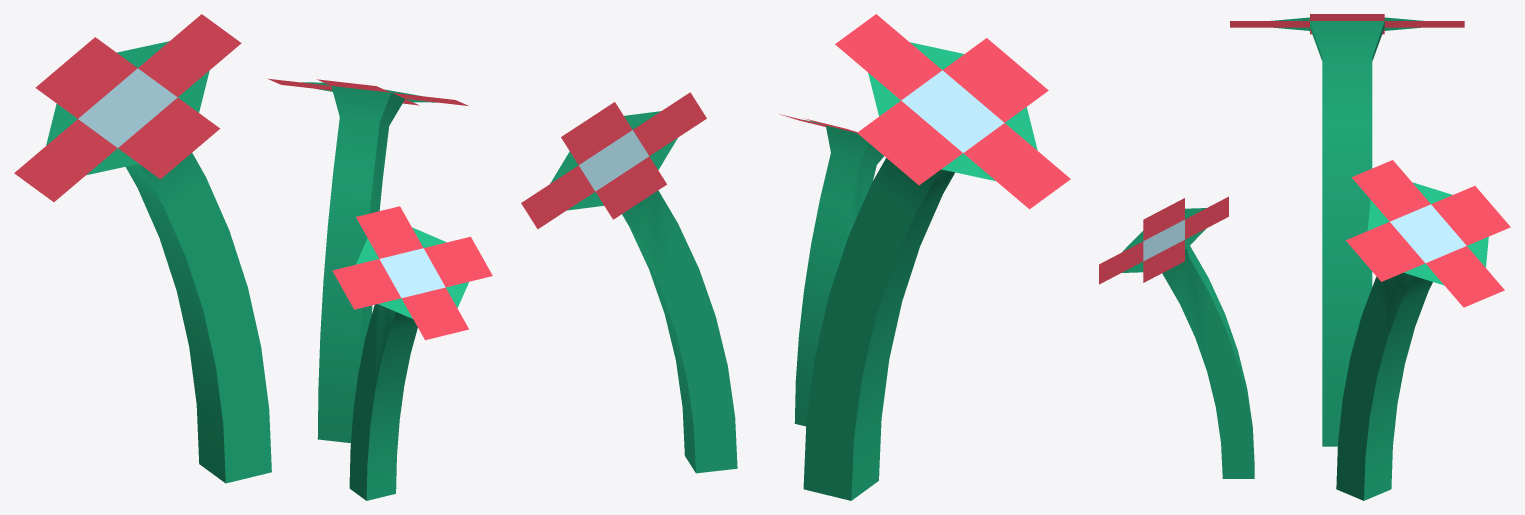
File: flowers.fbx
3 views of the same model, side by side, from view 1: azimuth 30°, elevation 25°; view 2: azimuth 150°, elevation 25°; view 3: azimuth 270°, elevation 25° (orthographic). The views are drawn at different scales.
Parts seen in each view (by area): view 1: flowers; view 2: flowers; view 3: flowers.
Part boxes in pixels (x1,y1,x2,y2): flowers: [14, 14, 492, 500]; flowers: [521, 14, 1070, 500]; flowers: [1099, 14, 1510, 500].
Bounding box in the file's own units: 4.97 × 4.64 × 4.17.
